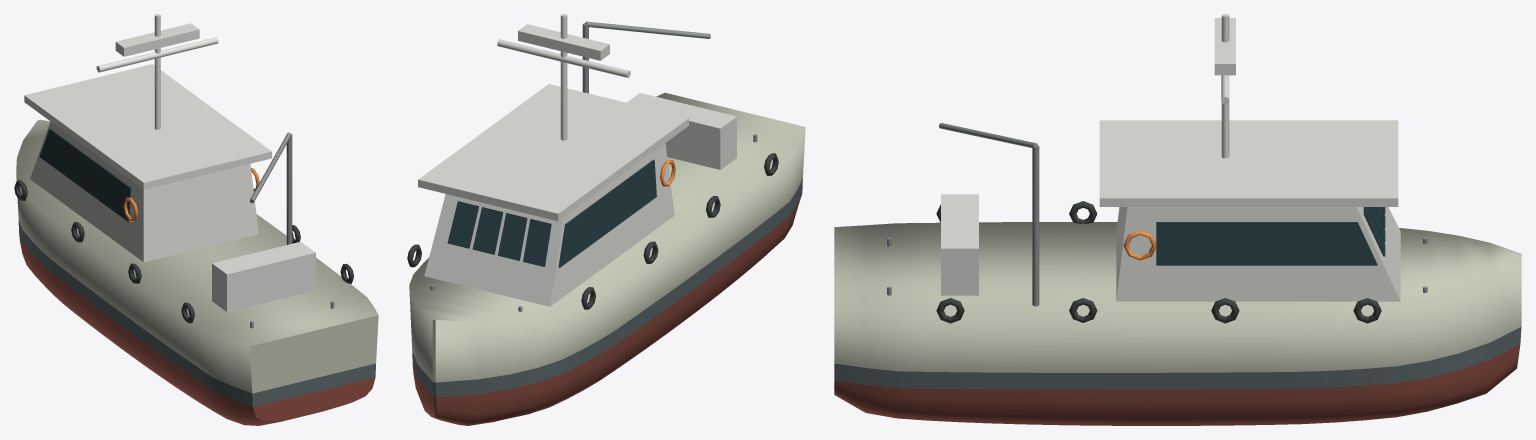
Rendered from trawler-low.glb.
3 views of the same model, side by side, from view 1: azimuth 30°, elevation 25°; view 2: azimuth 150°, elevation 25°; view 3: azimuth 270°, elevation 25° (orthographic). The views are drawn at different scales.
Parts seen in each view (by area): view 1: white, hull, bottom, stripe, window, metal, rubber; view 2: white, hull, bottom, window, stripe, rubber, metal; view 3: hull, white, bottom, stripe, window, rubber, metal.
Part boxes in pixels (x1=…): white: x1=24, y1=14, x2=315, y2=312; hull: x1=16, y1=119, x2=378, y2=393; bottom: x1=19, y1=233, x2=375, y2=425; stripe: x1=18, y1=219, x2=375, y2=406; window: x1=39, y1=128, x2=131, y2=221; metal: x1=249, y1=132, x2=334, y2=328; rubber: x1=14, y1=180, x2=353, y2=323; white: x1=418, y1=14, x2=736, y2=306; hull: x1=409, y1=92, x2=805, y2=382; bottom: x1=412, y1=194, x2=801, y2=425; window: x1=447, y1=159, x2=656, y2=267; stripe: x1=412, y1=179, x2=802, y2=397; rubber: x1=407, y1=153, x2=778, y2=309; metal: x1=430, y1=21, x2=757, y2=311; hull: x1=834, y1=222, x2=1521, y2=372; white: x1=941, y1=14, x2=1400, y2=301; bottom: x1=834, y1=344, x2=1520, y2=425; stripe: x1=834, y1=327, x2=1521, y2=389; window: x1=1156, y1=207, x2=1385, y2=265; rubber: x1=936, y1=201, x2=1381, y2=323; metal: x1=887, y1=123, x2=1427, y2=306.
Bounding box in the file's own units: 5 × 8.85 × 14.5.
